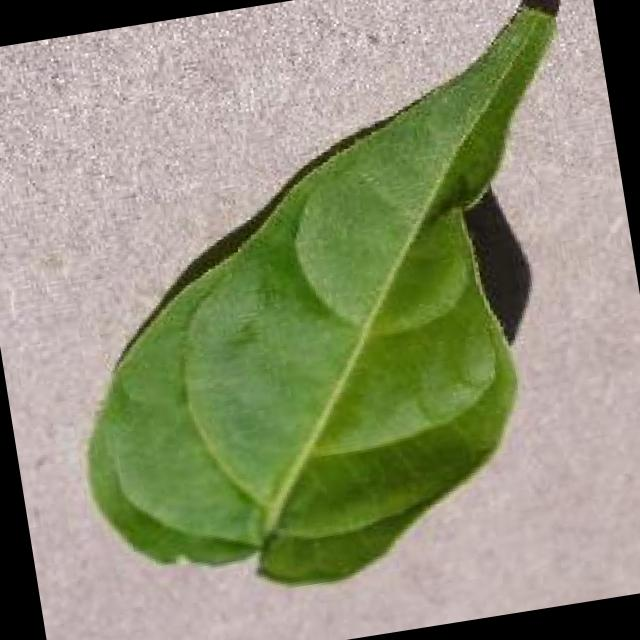Chilli_Healthy: (18, 0, 640, 620)
